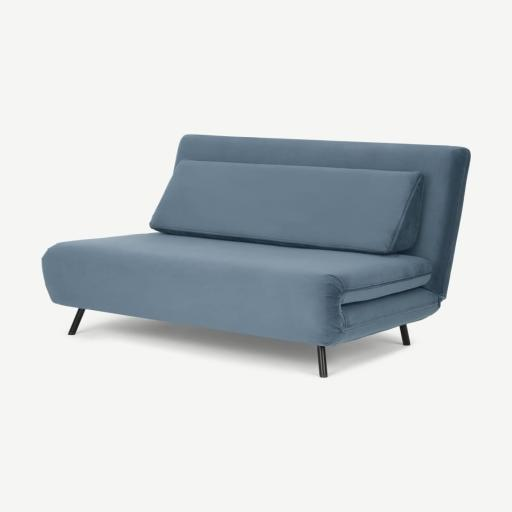back_cushion: (152, 157, 423, 254)
legs: (68, 308, 85, 335), (317, 346, 326, 377), (400, 324, 409, 345)
one-seater: (0, 0, 511, 512)
seat_cushion: (43, 233, 429, 345)
